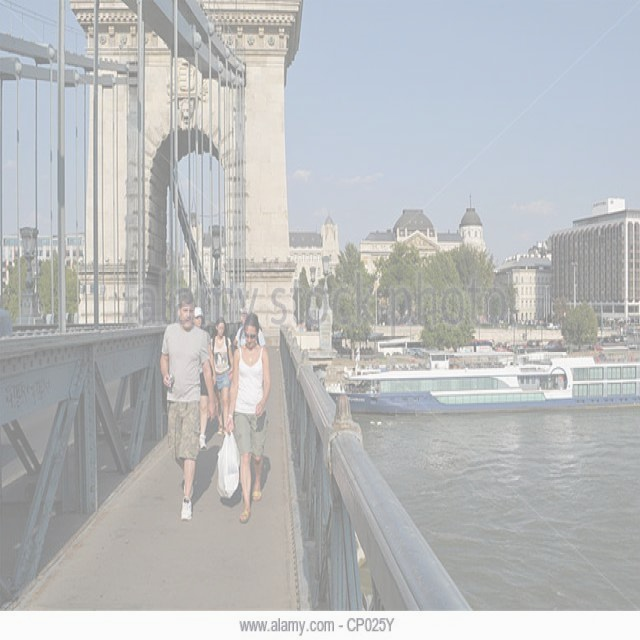pessoa: (159, 285, 219, 522), (223, 310, 274, 526), (193, 304, 218, 452), (209, 316, 234, 438), (232, 302, 267, 352), (469, 333, 478, 359)
